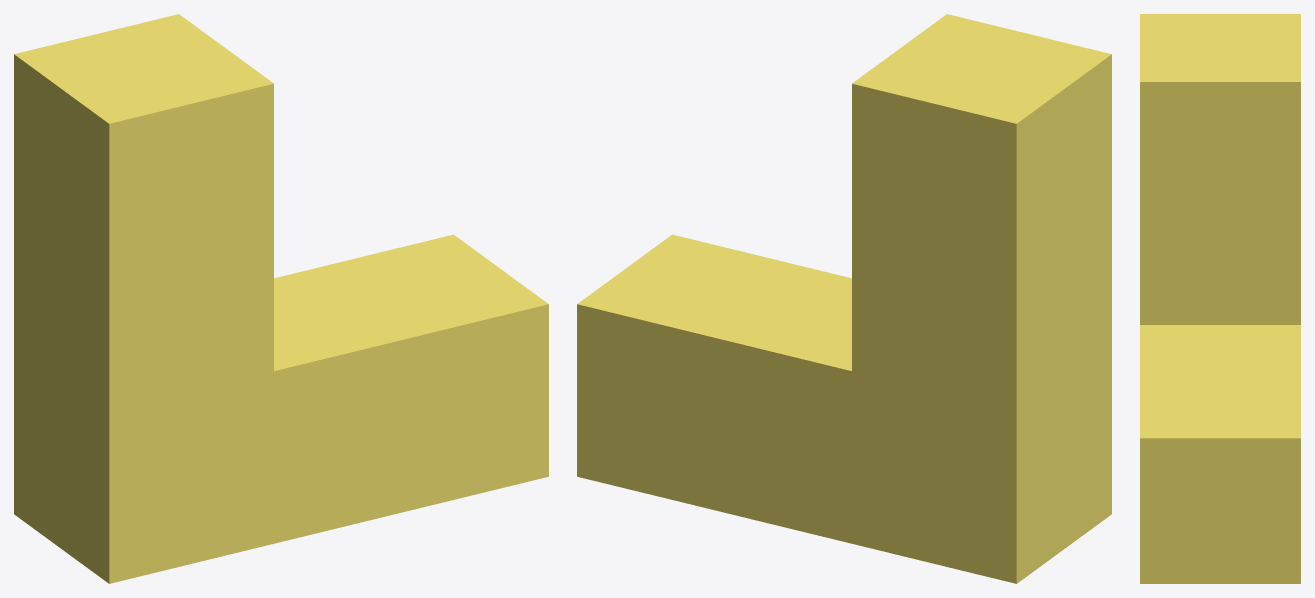
Rendered from lbracket.glb.
3 views of the same model, side by side, from view 1: azimuth 30°, elevation 25°; view 2: azimuth 150°, elevation 25°; view 3: azimuth 270°, elevation 25° (orthographic). The views are drawn at different scales.
Bounding box in the file's own units: 24 × 24 × 9.
